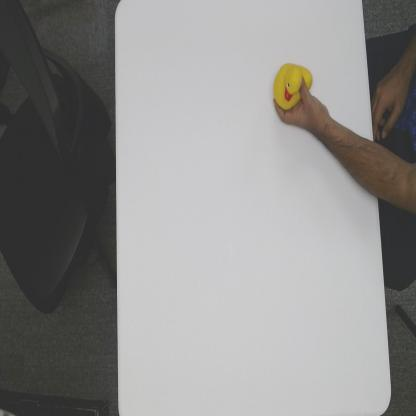Arm: (324, 119, 377, 201)
Duck: (273, 60, 314, 114)
Hand: (272, 76, 328, 136)
